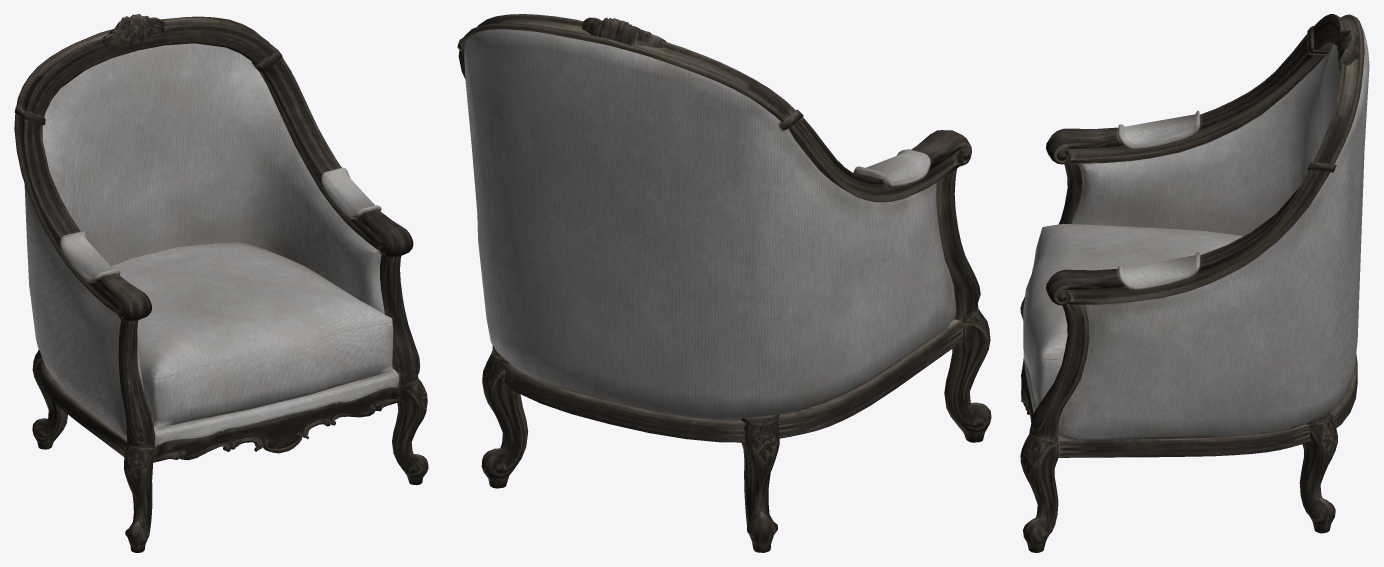
The model's file is ArmChair_01.glb.
The picture shows the model from 3 angles, left to right: view 1: azimuth 30°, elevation 25°; view 2: azimuth 150°, elevation 25°; view 3: azimuth 270°, elevation 25°; orthographic projection. The views are drawn at different scales.
Parts seen in each view (by area): view 1: ArmChair_01; view 2: ArmChair_01; view 3: ArmChair_01.
Boxes of the visible parts, x1,y1,x2,y2 form: ArmChair_01: [14, 14, 428, 552]; ArmChair_01: [457, 14, 991, 552]; ArmChair_01: [1020, 14, 1369, 552].
Bounding box in the file's own units: 0.8484 × 1.07 × 0.7658.
Materials: 1 (1 with a texture image).
